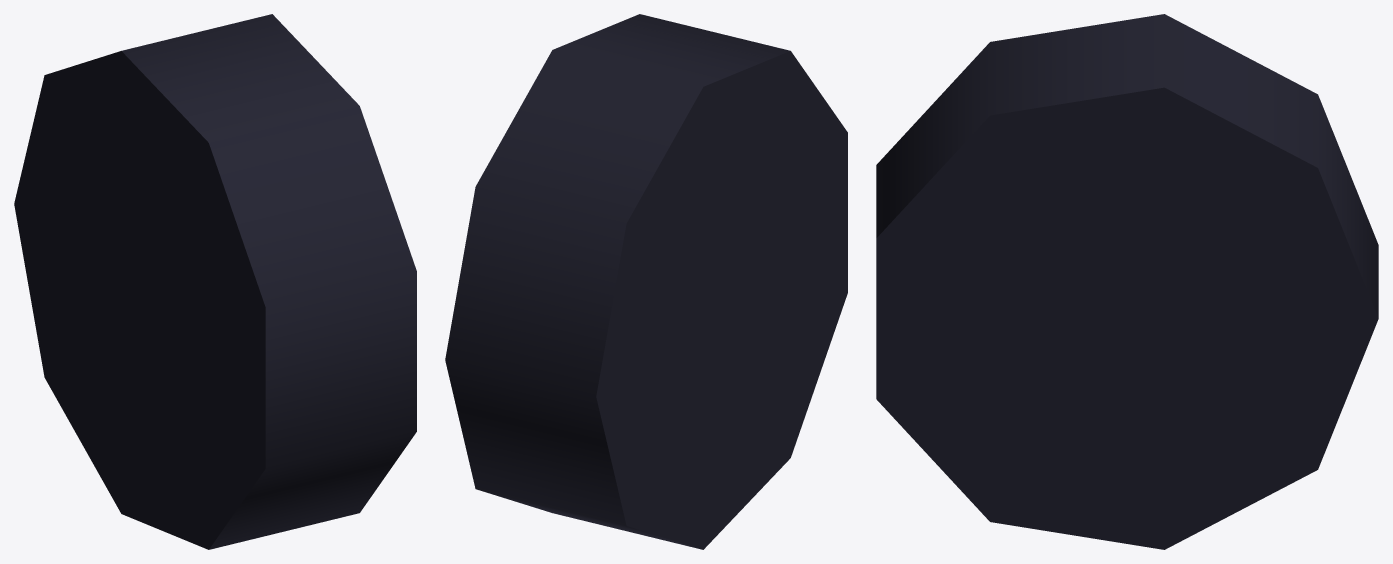
File: Pipe_1_A_4.fbx
The picture shows the model from 3 angles, left to right: view 1: azimuth 30°, elevation 25°; view 2: azimuth 150°, elevation 25°; view 3: azimuth 270°, elevation 25°; orthographic projection.
Parts seen in each view (by area): view 1: Pipe_1_A_4; view 2: Pipe_1_A_4; view 3: Pipe_1_A_4.
Boxes of the visible parts, x1,y1,x2,y2 form: Pipe_1_A_4: [14, 14, 416, 549]; Pipe_1_A_4: [445, 14, 847, 549]; Pipe_1_A_4: [876, 14, 1378, 549].
Size of the model in its own units: 10.28 by 30.12 by 29.66.
